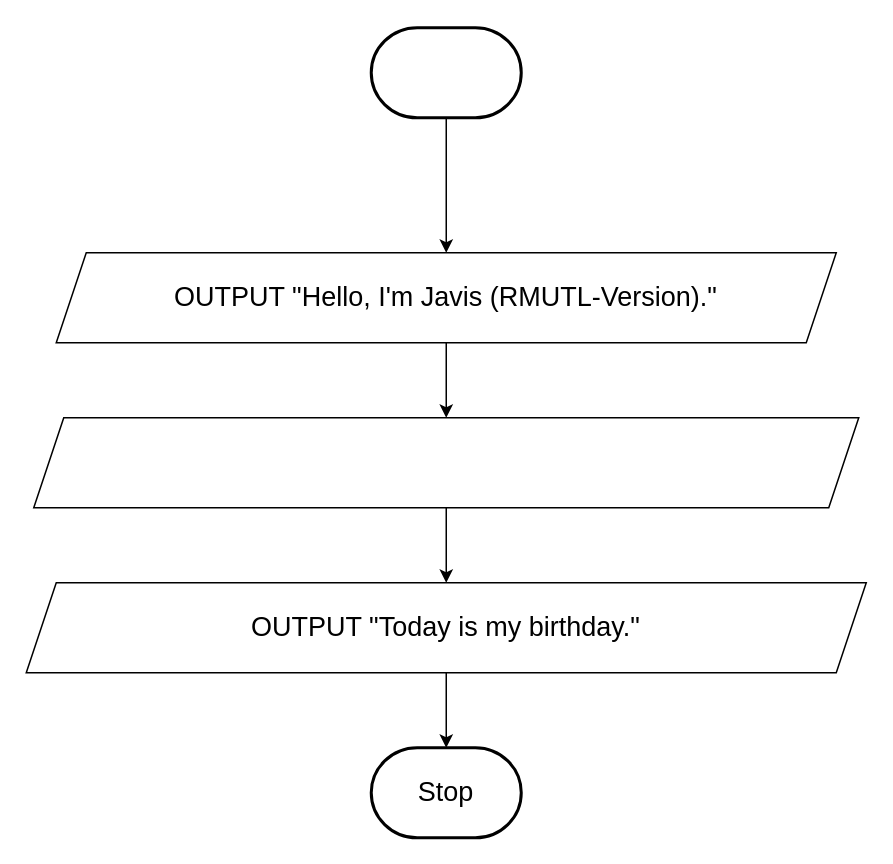
Image size: 893x864. Some labels were removed from this diagram. Each missing label, with the centre of its shape:
OUTPUT "This is my first time to coding with C language.": (445,462)
Start: (445,72)
